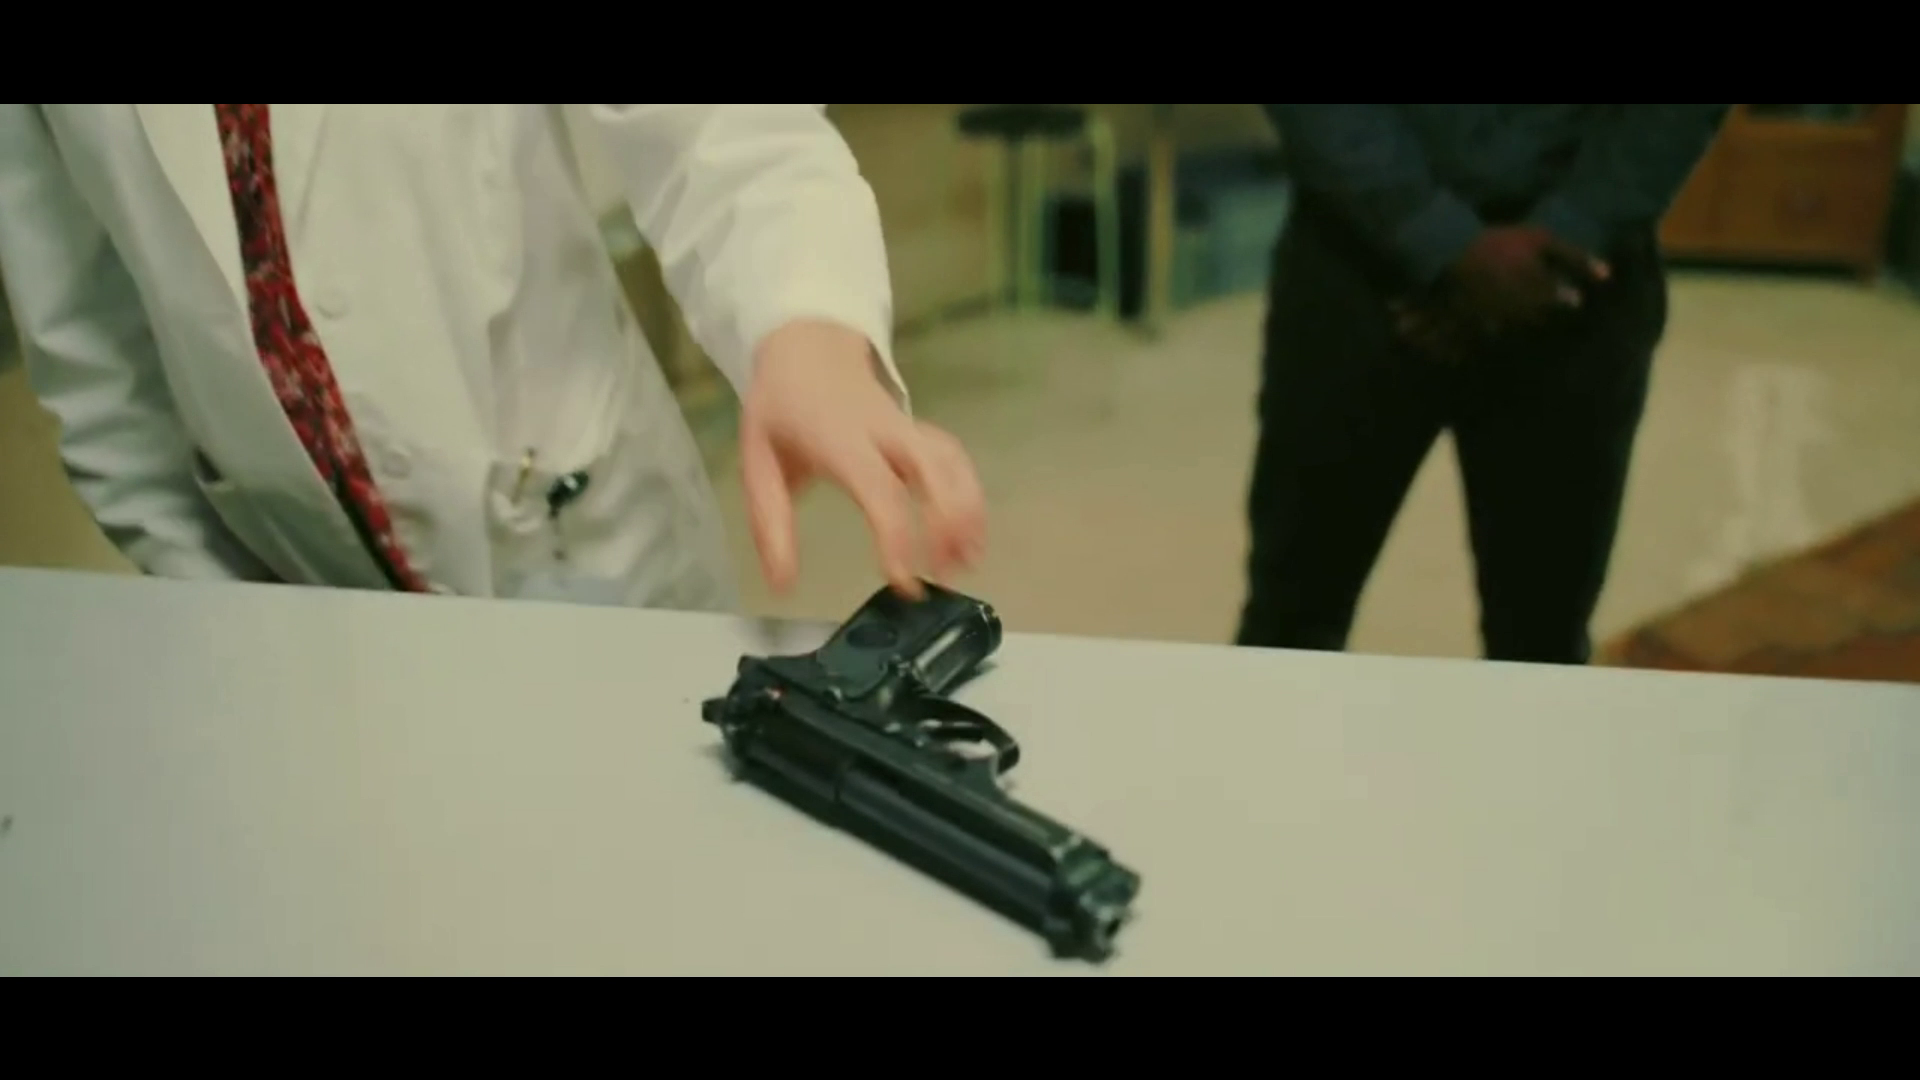SIG P226: (712, 580, 1141, 957)
